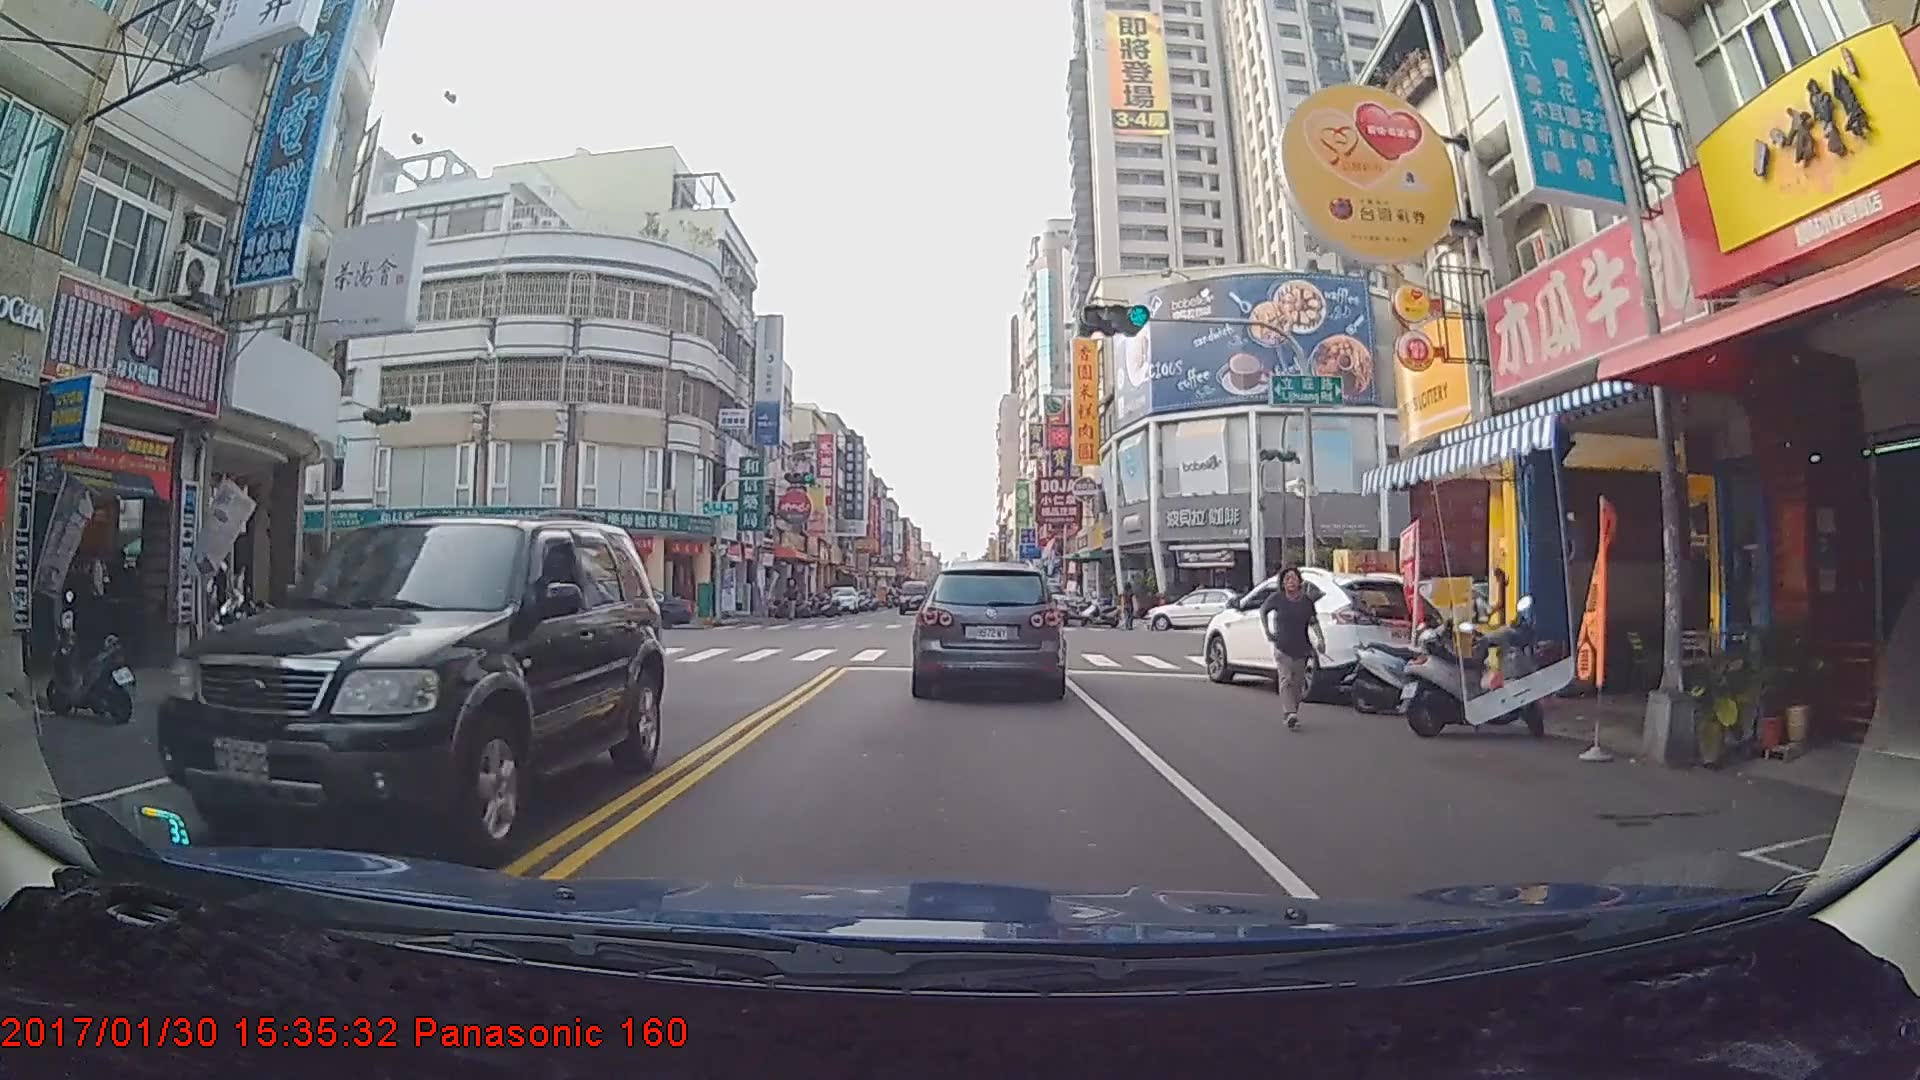pedestrian: (1265, 562, 1332, 735)
vehicle: (155, 513, 663, 860), (1201, 560, 1448, 698), (914, 560, 1064, 698), (1140, 583, 1265, 627), (895, 580, 929, 614), (821, 584, 860, 612)
